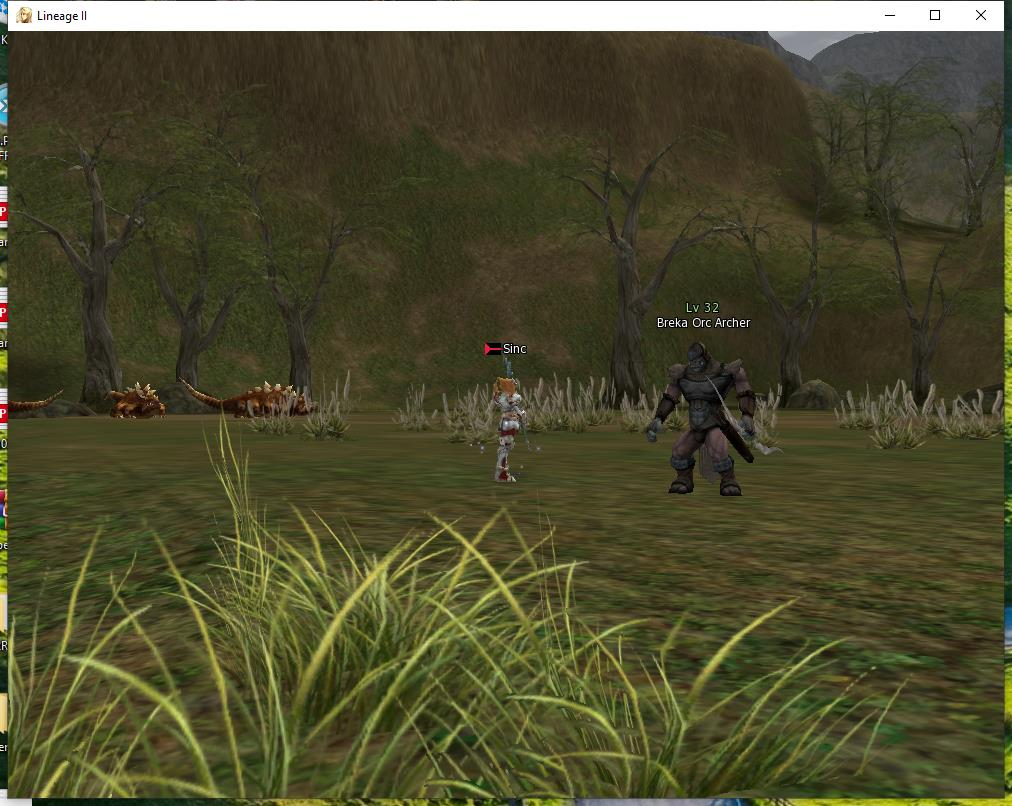monster: (642, 286, 777, 504), (172, 355, 341, 432), (89, 360, 166, 425), (1, 368, 66, 425)
